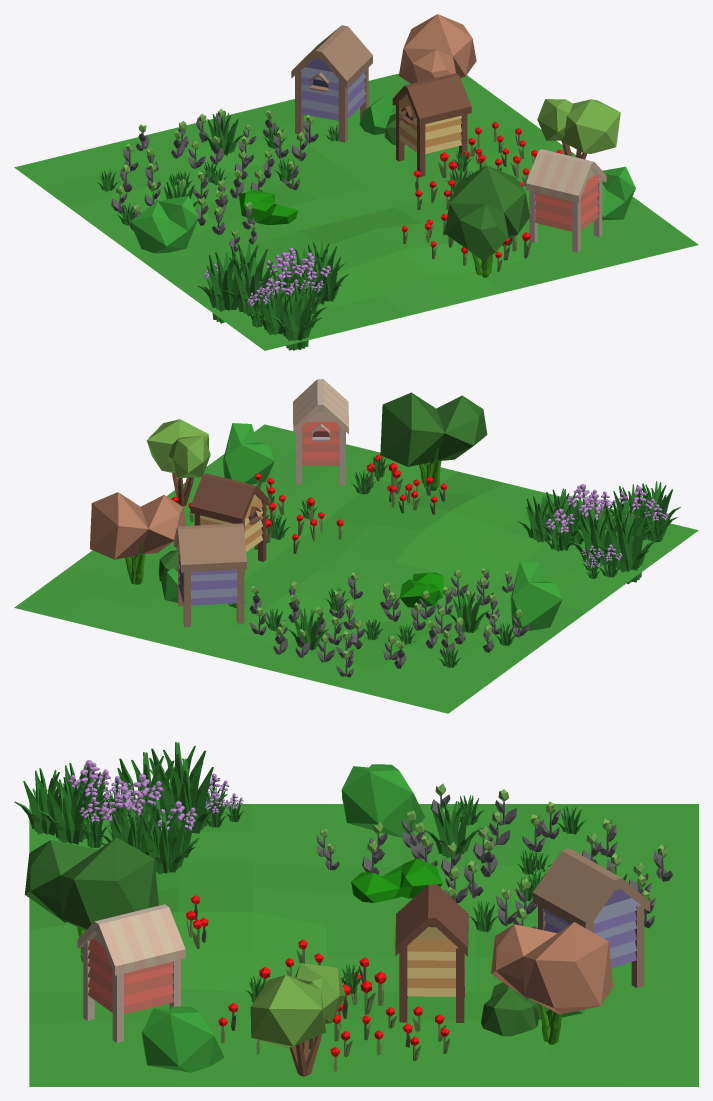
Rendered from MEADOW_FIELD09.fbx.
3 renders of one model, top to bottom at view 1: azimuth 30°, elevation 25°; view 2: azimuth 150°, elevation 25°; view 3: azimuth 270°, elevation 25°, orthographic. The views are drawn at different scales.
Parts seen in each view (by area): view 1: Plane.035; view 2: Plane.035; view 3: Plane.035.
Part boxes in pixels (<box>): Plane.035: <box>14,14,698,350</box>; Plane.035: <box>14,379,698,713</box>; Plane.035: <box>14,742,698,1086</box>.
Bounding box in the file's own units: 1053 × 263 × 1023.
